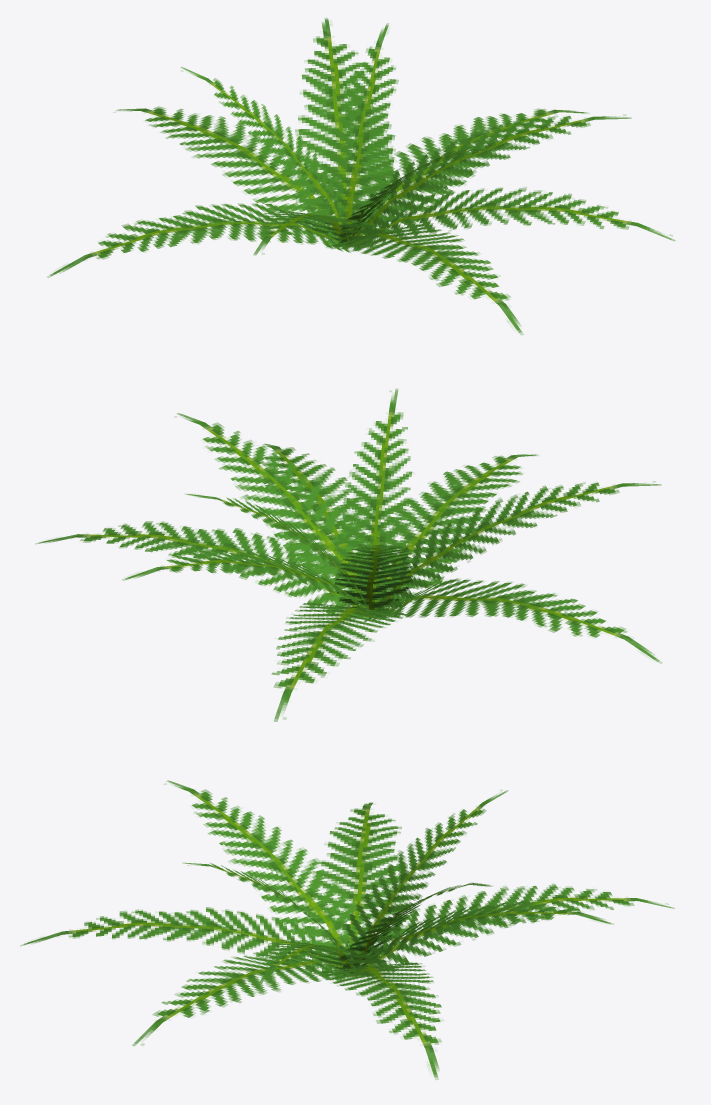
The model's file is Fern1.glb.
3 views of the same model, one above another, from view 1: azimuth 30°, elevation 25°; view 2: azimuth 150°, elevation 25°; view 3: azimuth 270°, elevation 25° (orthographic). The views are drawn at different scales.
Visible parts, largest first — view 1: Fern1; view 2: Fern1; view 3: Fern1.
Boxes of the visible parts, x1,y1,x2,y2 form: Fern1: [47, 18, 675, 335]; Fern1: [35, 389, 662, 721]; Fern1: [20, 780, 674, 1079].
Bounding box in the file's own units: 1.78 × 0.4095 × 1.77.
1 material, 1 textured.
